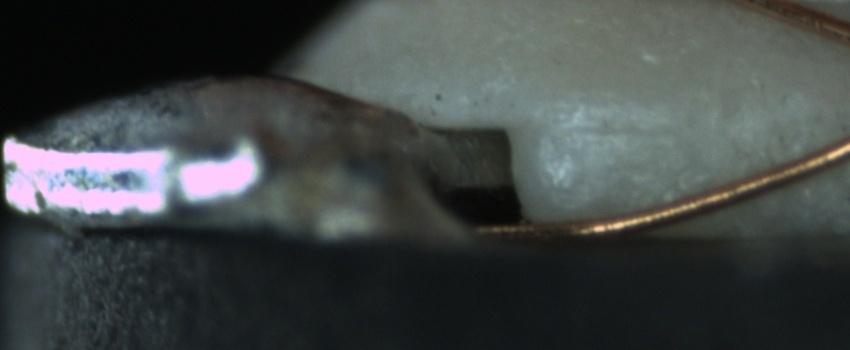DL: (546, 98, 680, 157)
